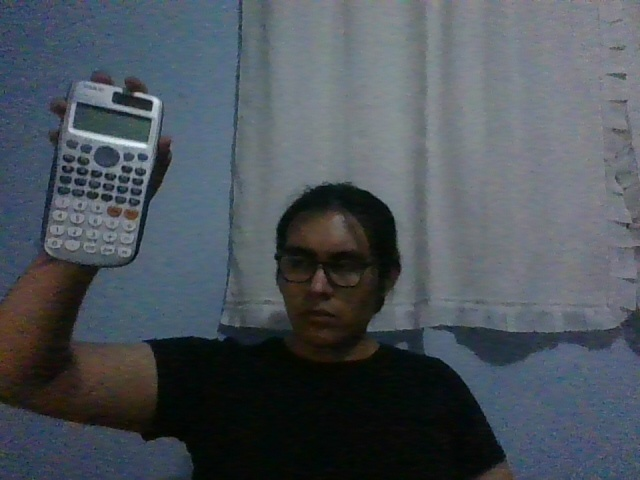calculadora: (41, 81, 164, 267)
